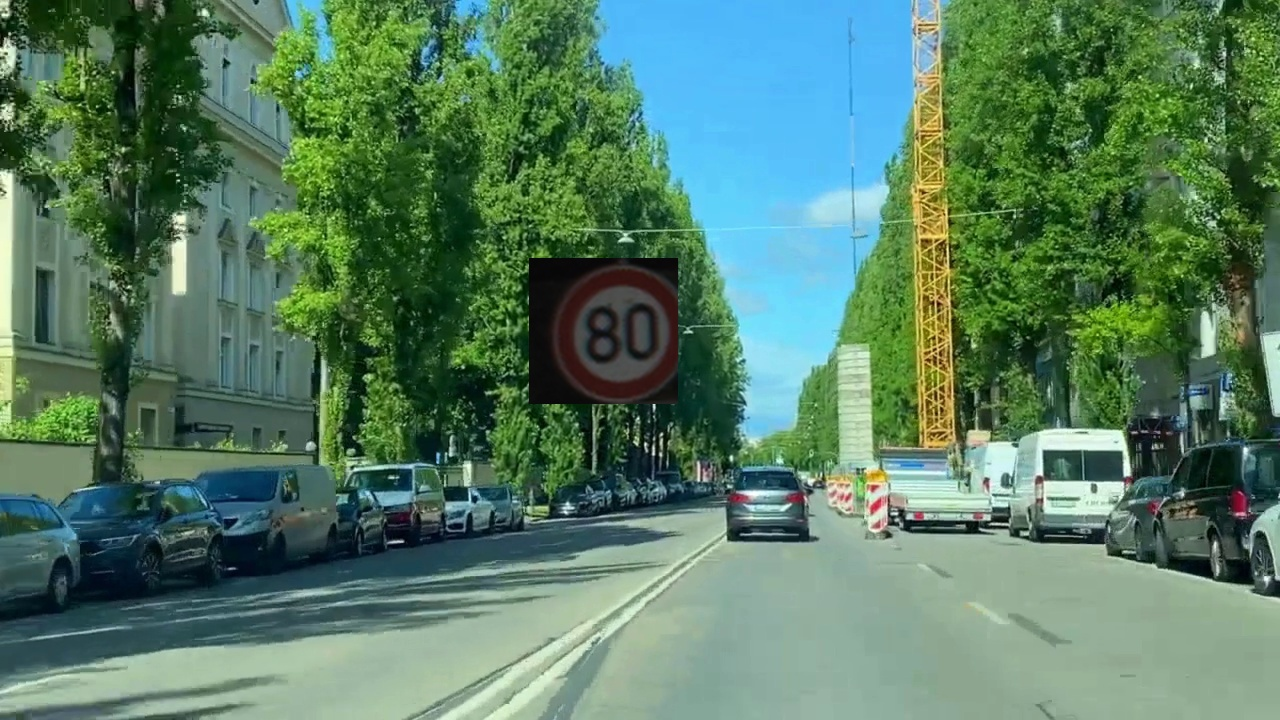Speed 80: (529, 258, 678, 404)
